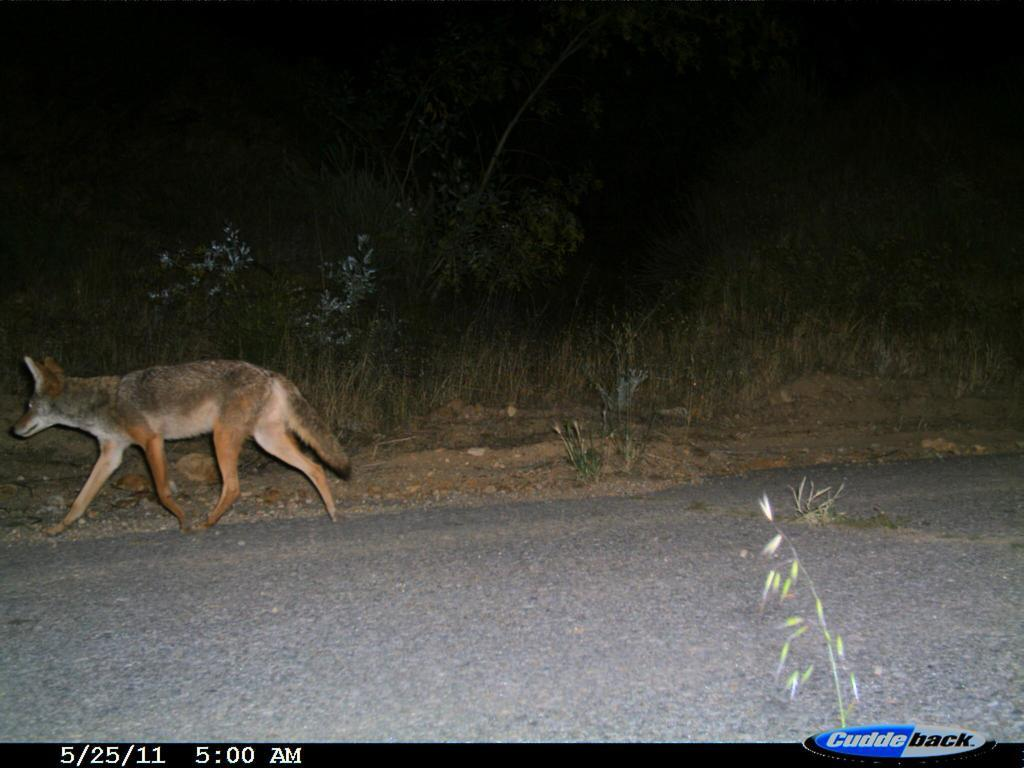coyote: (6, 328, 370, 561)
